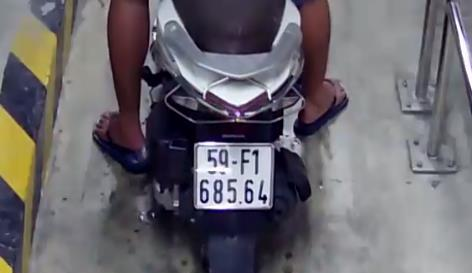lisence: (194, 142, 273, 210)
